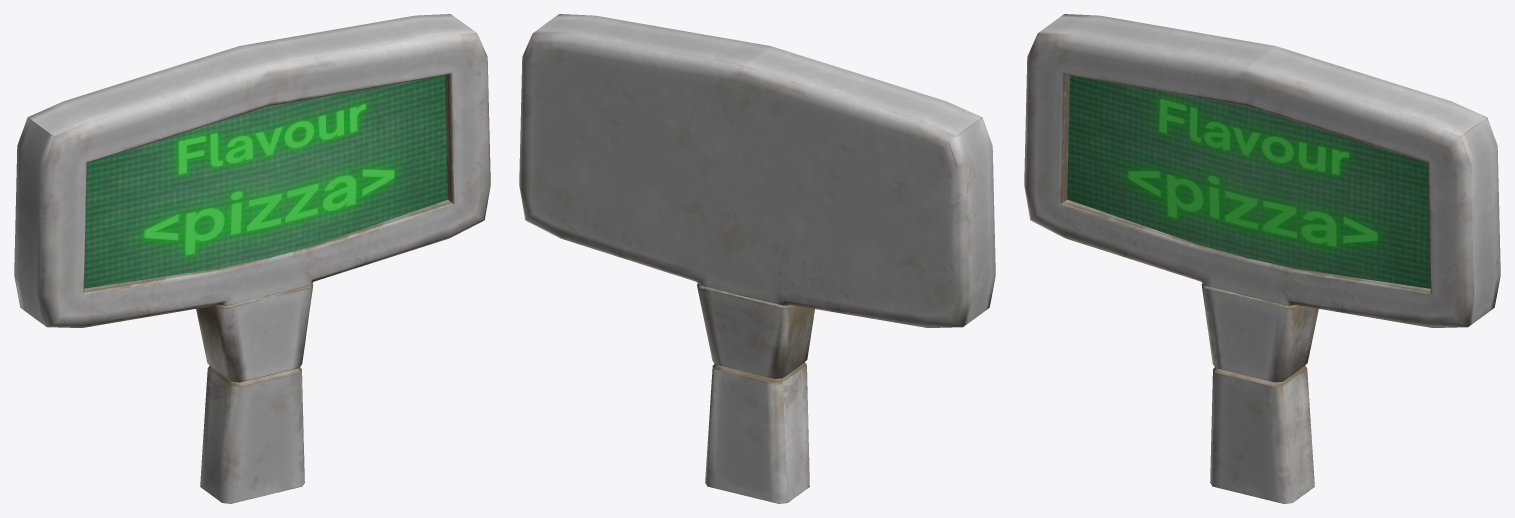
File: FlavourSign2.fbx
3 views of the same model, side by side, from view 1: azimuth 30°, elevation 25°; view 2: azimuth 150°, elevation 25°; view 3: azimuth 330°, elevation 25° (orthographic).
Visible parts, largest first — view 1: Cube.009, Cube.011; view 2: Cube.009; view 3: Cube.009, Cube.011.
Part boxes in pixels (left/top/right/bottom): Cube.009: left=14, top=14, right=490, bottom=503; Cube.011: left=84, top=75, right=447, bottom=288; Cube.009: left=519, top=14, right=995, bottom=503; Cube.009: left=1024, top=14, right=1500, bottom=503; Cube.011: left=1067, top=75, right=1430, bottom=288.
Size of the model in its own units: 119 by 108 by 15.77.
Materials: 2 (2 with a texture image).
